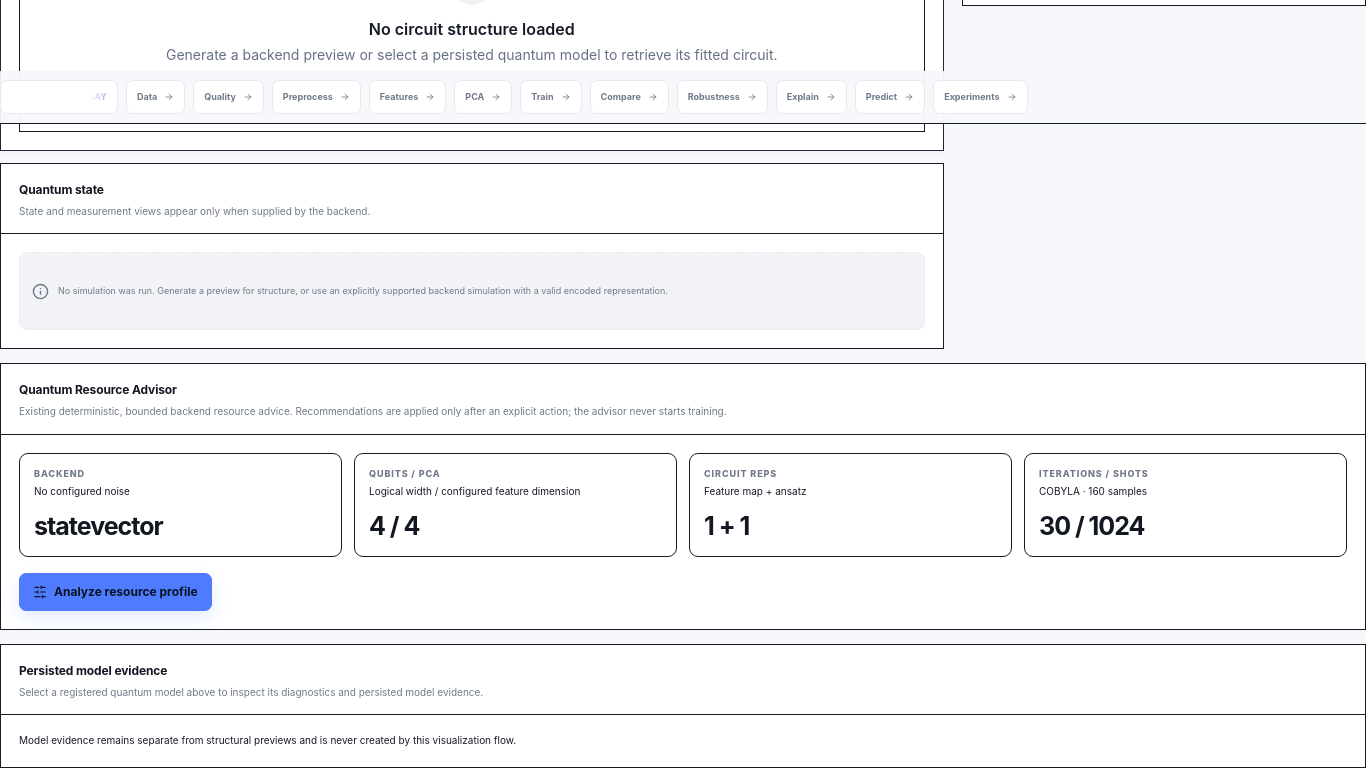
Test: quantum resource advisor › shows the truthful no-history and within-budget states
This screenshot has width=1366, height=768.
(page scrolled)
Click the button "Analyze resource profile". click: (115, 592)
box: 19,573 -> 212,611
(page scrolled)
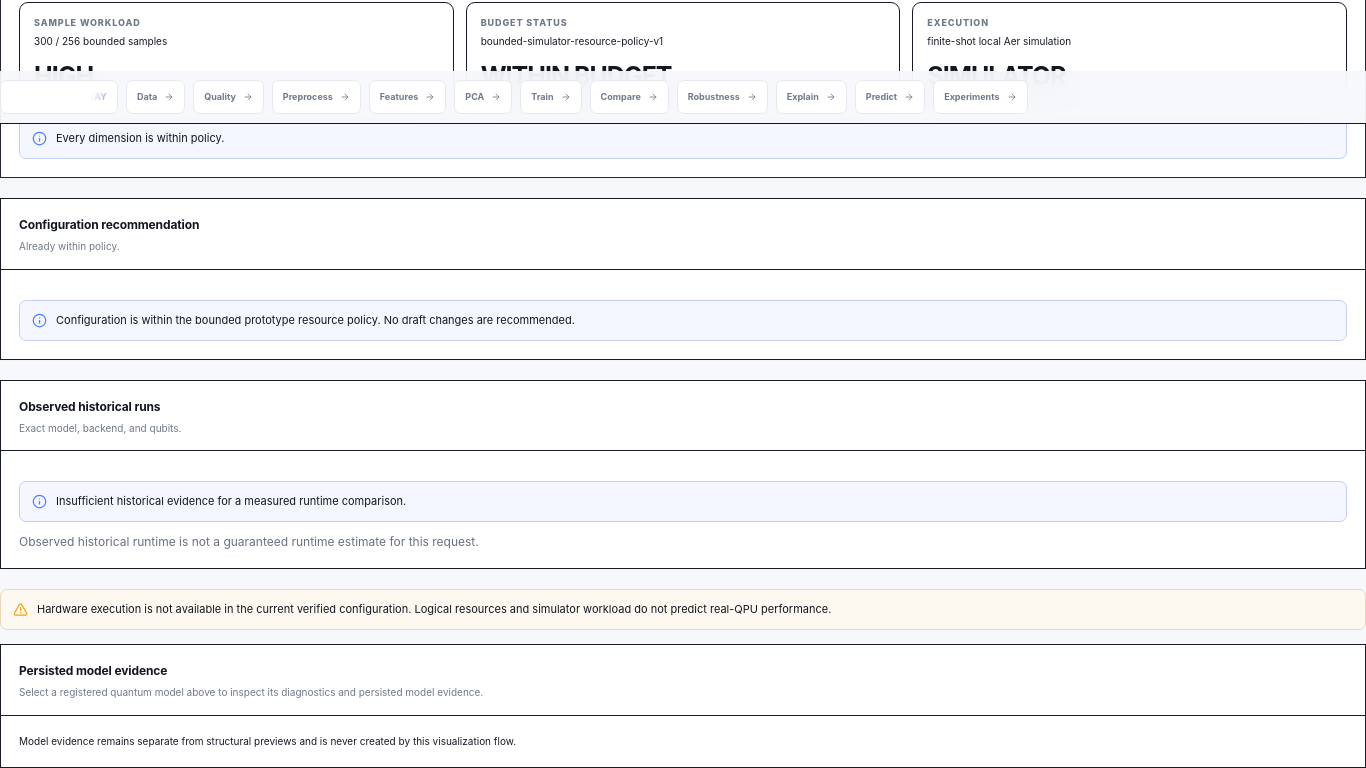
Now the text "WITHIN BUDGET" is shown, box 481,64 -> 672,89
Now the text "Insufficient historical evidence" is shown, box 56,494 -> 406,508
